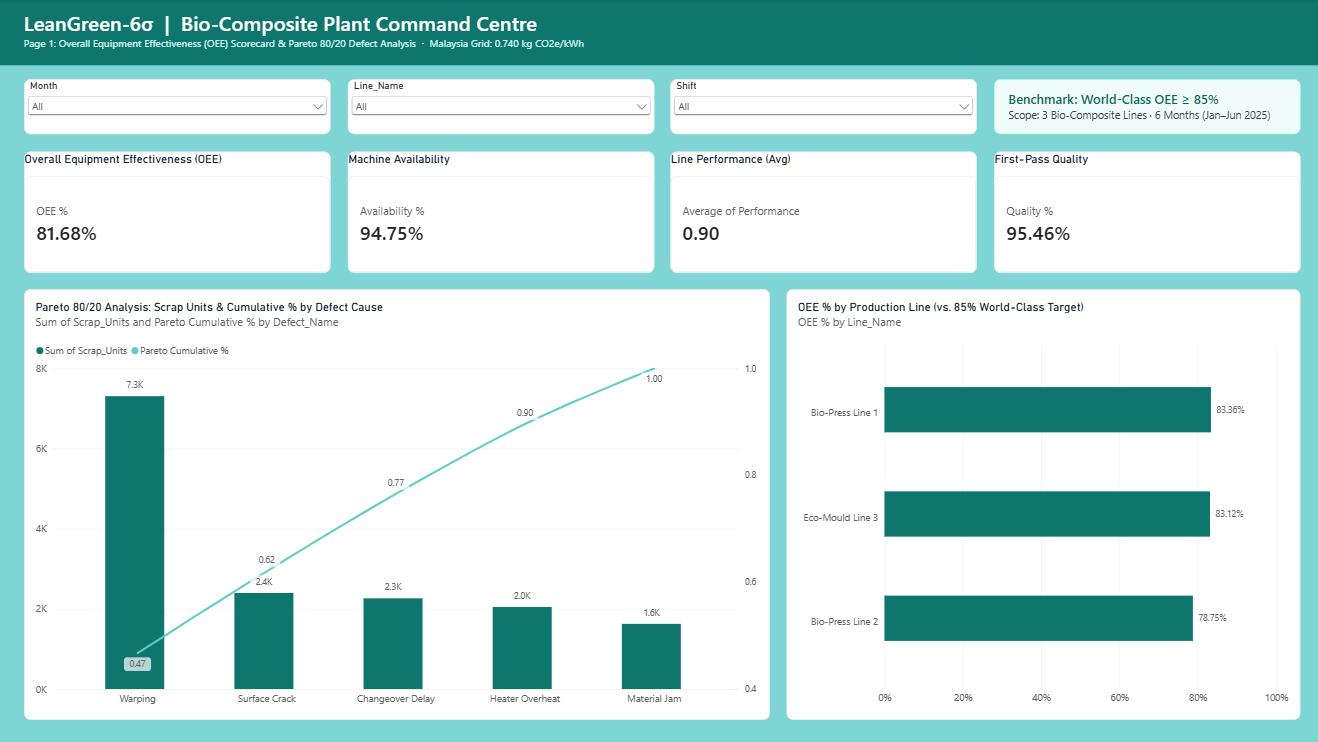

Layout of this report page (visuals, bound fields, positions):
{"tool":"powerbi","page":{"name":"1 · OEE & Pareto 80/20","canvas":[1920,1080],"ordinal":0},"visuals":[{"type":"slicer","fields":{"Values":["Dim_Date.Month"]},"box":[36,116,444,80],"z":10},{"type":"slicer","fields":{"Values":["tbl_Line.Line_Name"]},"box":[504,116,444,80],"z":11},{"type":"slicer","fields":{"Values":["Fact_Production.Shift"]},"box":[972,116,444,80],"z":12},{"type":"textbox","box":[1440,116,444,80],"z":13},{"type":"cardVisual","title":"Overall Equipment Effectiveness (OEE)","fields":{"Data":["_Measures.OEE %"]},"box":[36,220,444,176],"z":24},{"type":"cardVisual","title":"Machine Availability","fields":{"Data":["_Measures.Availability %"]},"box":[504,220,444,176],"z":25},{"type":"cardVisual","title":"Line Performance (Avg)","fields":{"Data":["Avg(Fact_Production.Performance)"]},"box":[972,220,444,176],"z":26},{"type":"cardVisual","title":"First-Pass Quality","fields":{"Data":["_Measures.Quality %"]},"box":[1440,220,444,176],"z":27},{"type":"lineStackedColumnComboChart","title":"Pareto 80/20 Analysis: Scrap Units & Cumulative % by Defect Cause","fields":{"Category":["Dim_Defect.Defect_Name"],"Y":["Sum(Fact_Production.Scrap_Units)"],"Y2":["_Measures.Pareto Cumulative %"]},"box":[36,420,1080,624],"z":30},{"type":"clusteredBarChart","title":"OEE % by Production Line (vs. 85% World-Class Target)","fields":{"Category":["tbl_Line.Line_Name"],"Y":["_Measures.OEE %"]},"box":[1140,420,744,624],"z":31},{"type":"textbox","box":[0,0,1920,96],"z":100}]}

Visuals, with their boxes in screenshot pixels (x1, y1, x2, y2), scaled from the page's 1920x1080 canvas onto the 1318x742 screenshot:
slicer - Dim_Date.Month: [x1=25, y1=80, x2=330, y2=135]
slicer - tbl_Line.Line_Name: [x1=346, y1=80, x2=651, y2=135]
slicer - Fact_Production.Shift: [x1=667, y1=80, x2=972, y2=135]
textbox: [x1=988, y1=80, x2=1293, y2=135]
"Overall Equipment Effectiveness (OEE)" cardVisual: [x1=25, y1=151, x2=330, y2=272]
"Machine Availability" cardVisual: [x1=346, y1=151, x2=651, y2=272]
"Line Performance (Avg)" cardVisual: [x1=667, y1=151, x2=972, y2=272]
"First-Pass Quality" cardVisual: [x1=988, y1=151, x2=1293, y2=272]
"Pareto 80/20 Analysis: Scrap Units & Cumulative % by Defect Cause" lineStackedColumnComboChart: [x1=25, y1=289, x2=766, y2=717]
"OEE % by Production Line (vs. 85% World-Class Target)" clusteredBarChart: [x1=783, y1=289, x2=1293, y2=717]
textbox: [x1=0, y1=0, x2=1317, y2=66]
